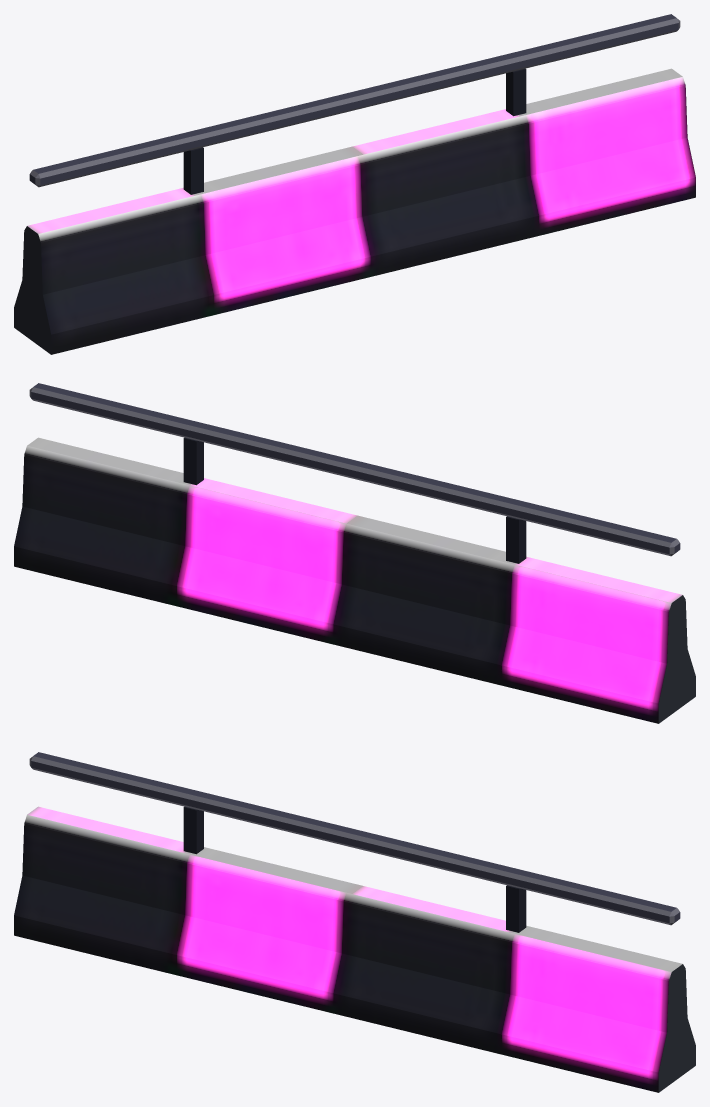
The model's file is barrier.glb.
3 views of the same model, one above another, from view 1: azimuth 30°, elevation 25°; view 2: azimuth 150°, elevation 25°; view 3: azimuth 330°, elevation 25° (orthographic).
Parts seen in each view (by area): view 1: barrier; view 2: barrier; view 3: barrier.
Part boxes in pixels (bbox=[...]): barrier: bbox=[14, 14, 695, 354]; barrier: bbox=[14, 383, 695, 723]; barrier: bbox=[14, 752, 695, 1092].
Size of the model in its own units: 4 by 1 by 0.4.
1 material, 1 textured.
